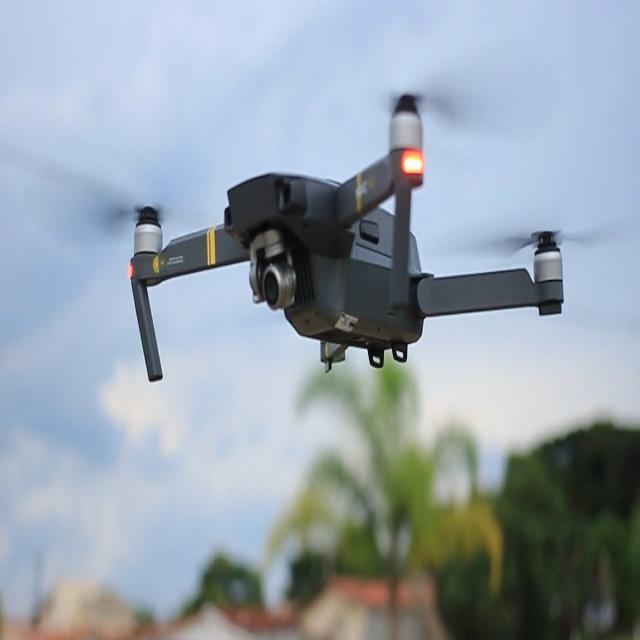drone: (4, 87, 632, 382)
